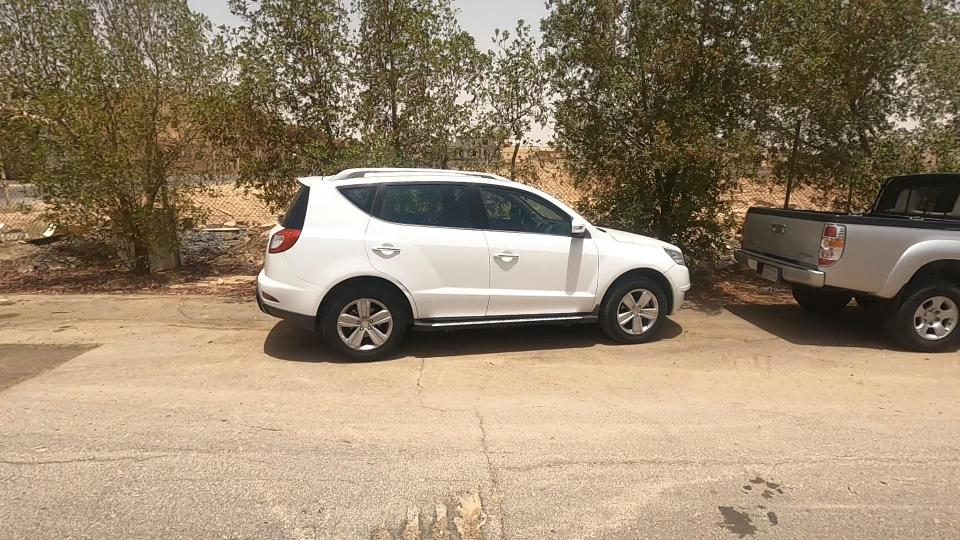GARBAGE: (136, 184, 289, 266), (0, 190, 122, 281)
